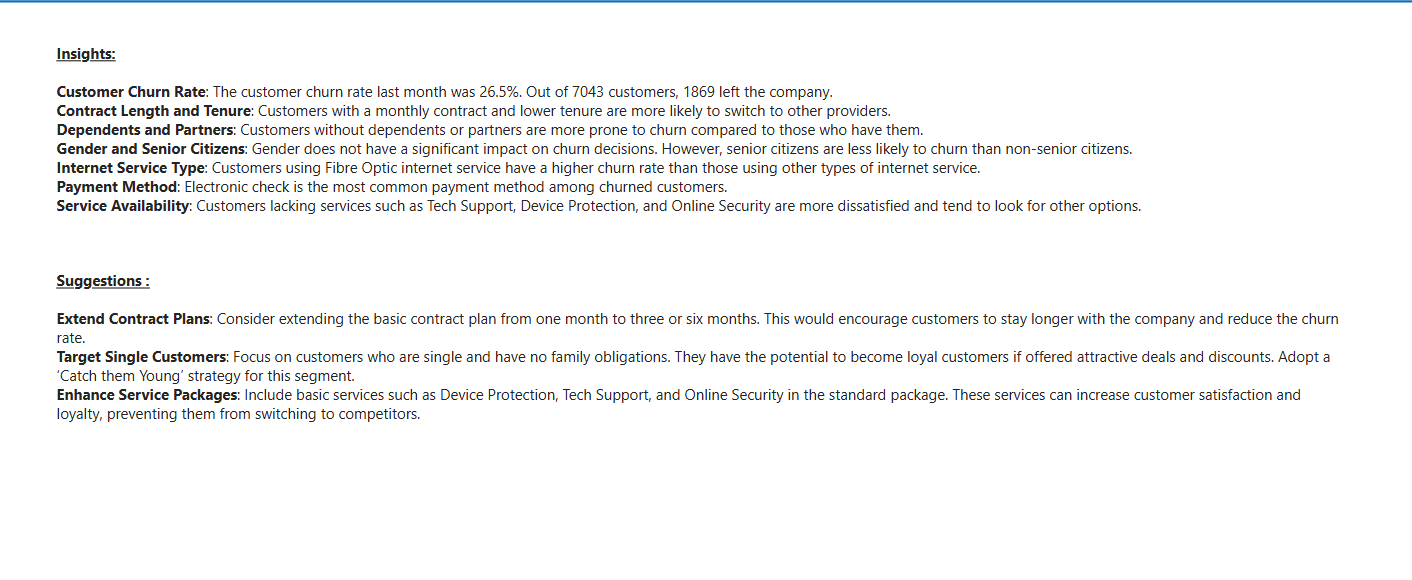

What the dashboard file says about the page in this screenshot:
{"tool":"powerbi","page":{"name":"Insights and Suggestions","canvas":[1280,720],"ordinal":2},"visuals":[{"type":"shape","box":[0,43.3,1280,51.1],"z":0},{"type":"textbox","box":[500,13.3,280,55.6],"z":1000},{"type":"textbox","box":[53.3,84.4,1164.4,635.6],"z":2000}]}

Visuals, with their boxes on the page's 1280x720 design canvas (x1, y1, x2, y2). These are canvas units, not pixel positions in the 1412x580 screenshot, which may show the page scaled, cropped or inside an application window:
shape: detection(0, 43, 1280, 94)
textbox: detection(500, 13, 780, 69)
textbox: detection(53, 84, 1218, 720)
